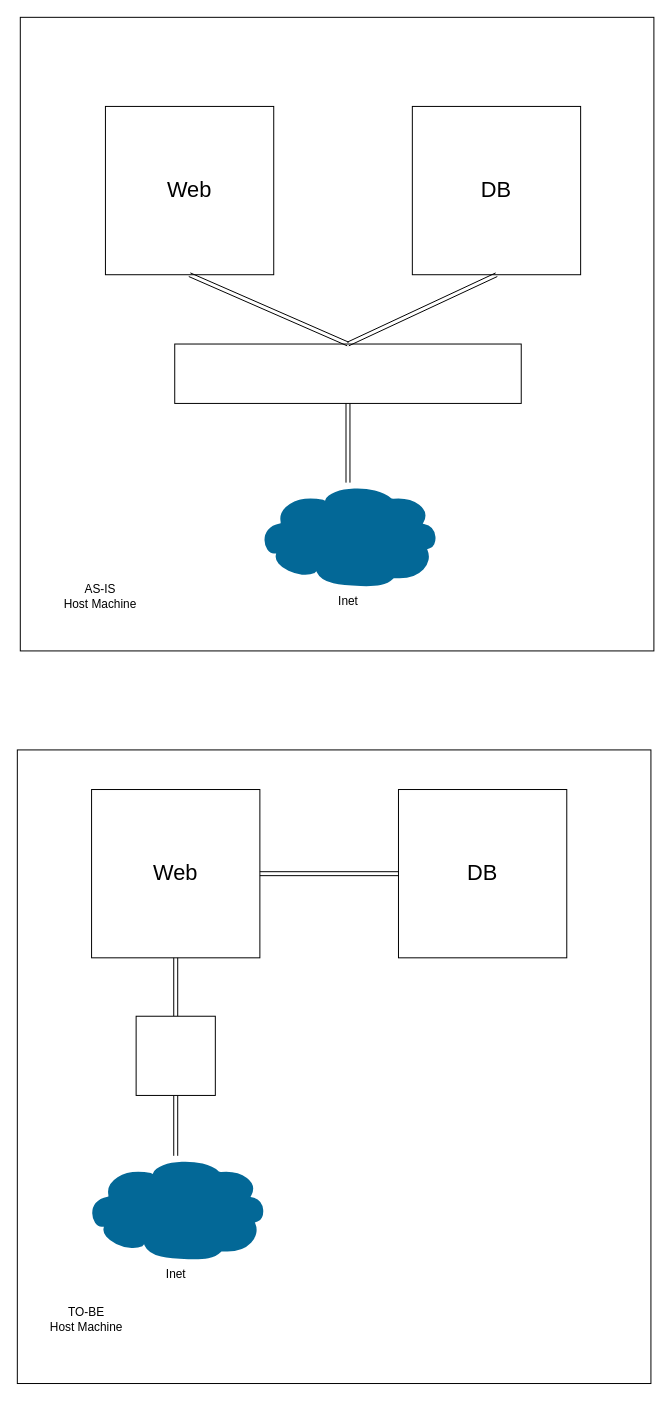
The diagram is 671 pixels wide and 1401 high, and some of its shapes have lost their labels. The shapes that lost their labels are listed below. From the top down, each one's centre as x and y in pixels, then its label:
the point at 347,373: Docker-Bridge
the point at 175,1055: Iptables
